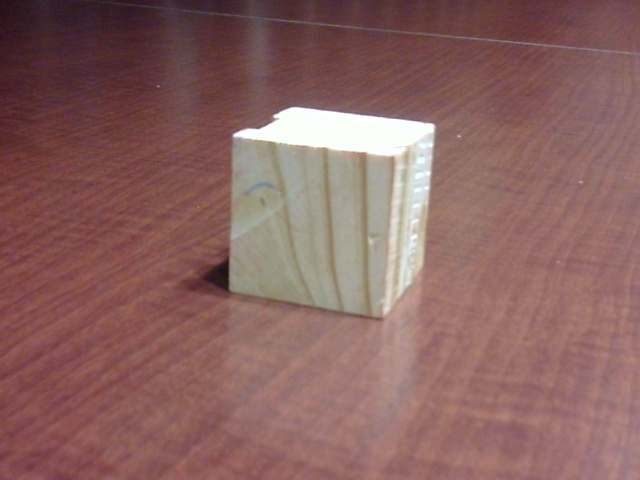NormalBlock: (230, 135, 417, 320)
